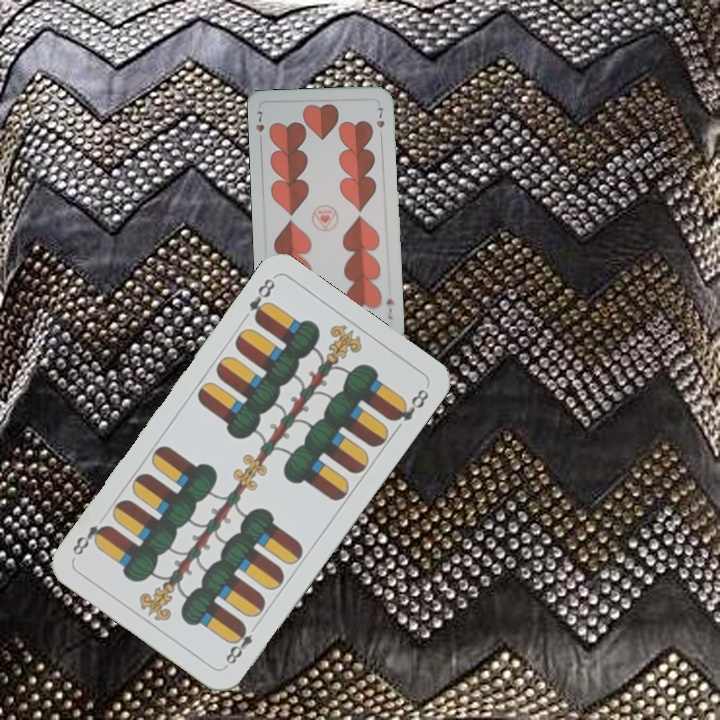E8: (221, 620, 262, 669), (244, 274, 278, 326)
H7: (252, 107, 267, 146), (382, 294, 396, 322)
